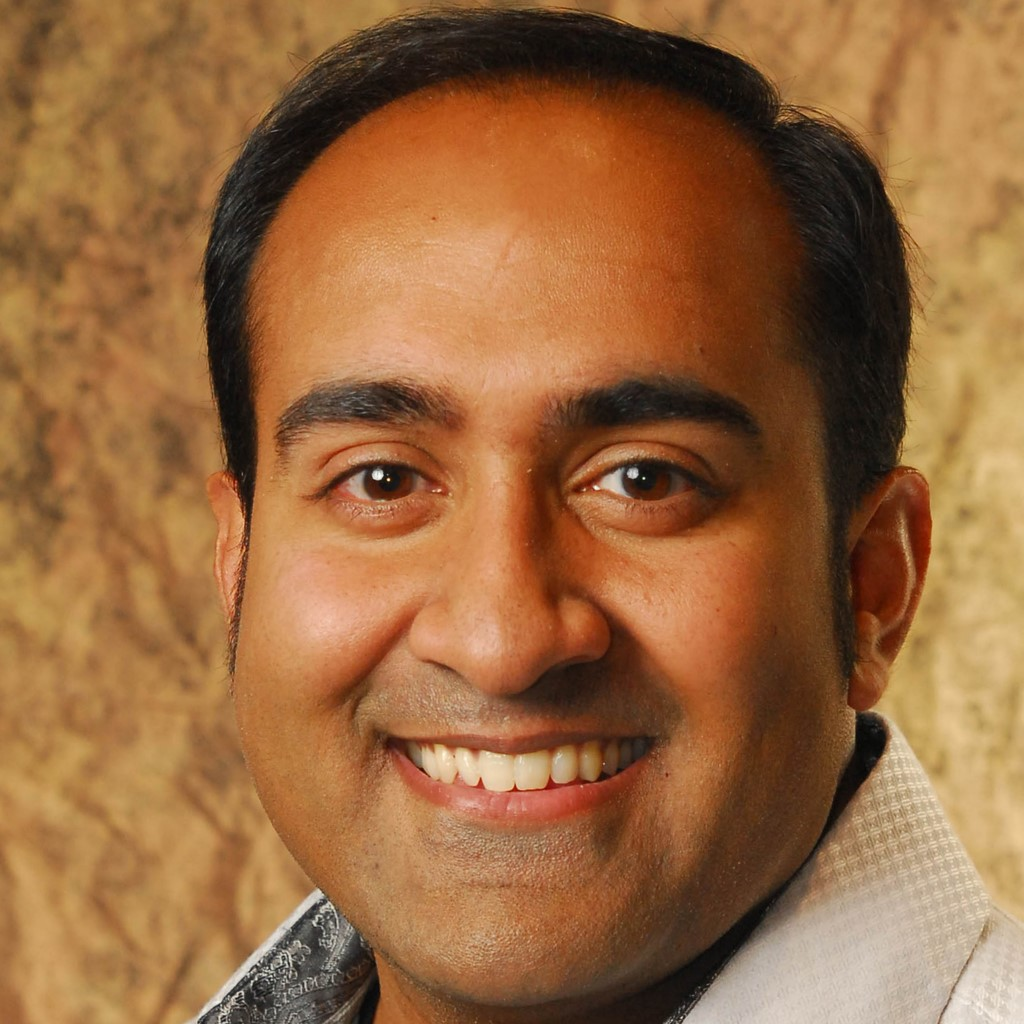sin_mascara: (220, 44, 839, 1005)
